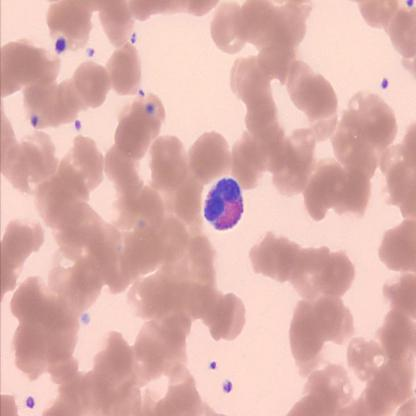Eosinophil: (206, 175, 244, 229)
